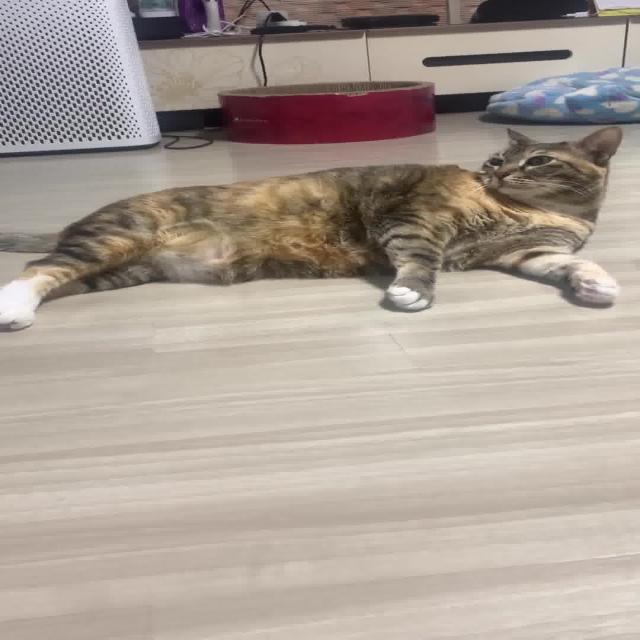cat: (0, 116, 640, 349)
